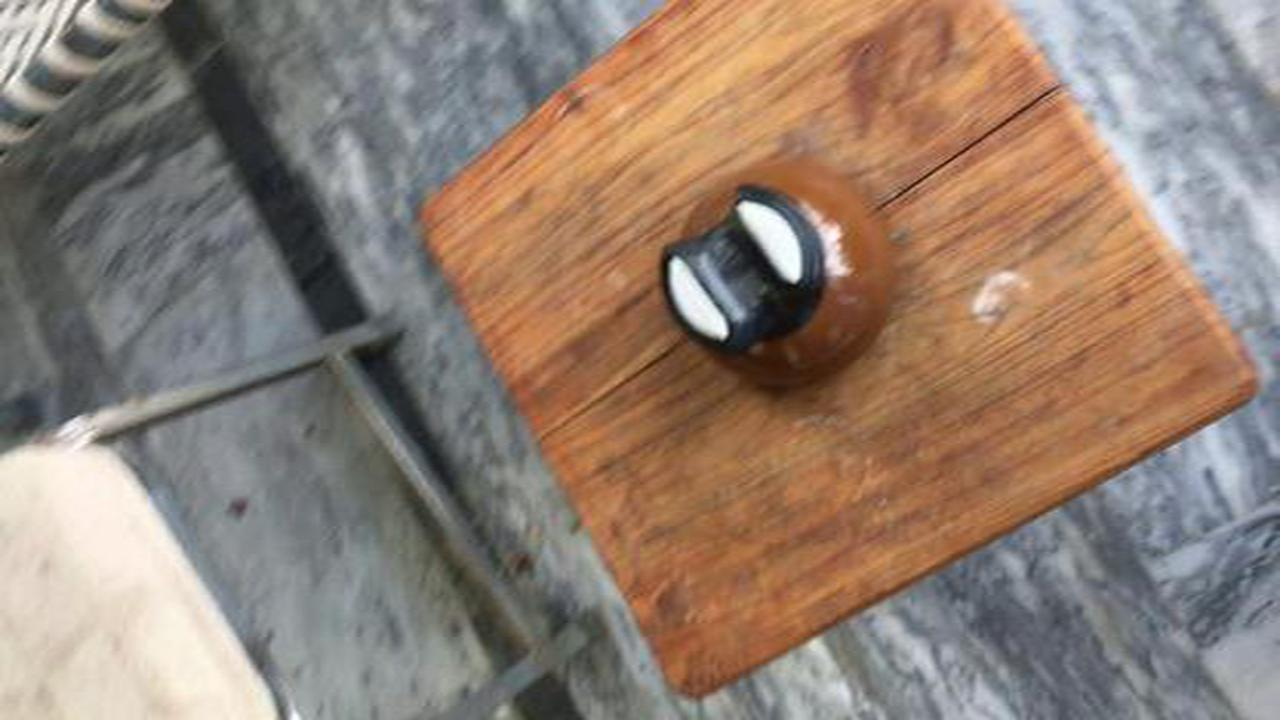insulator_pin: (637, 148, 927, 407)
